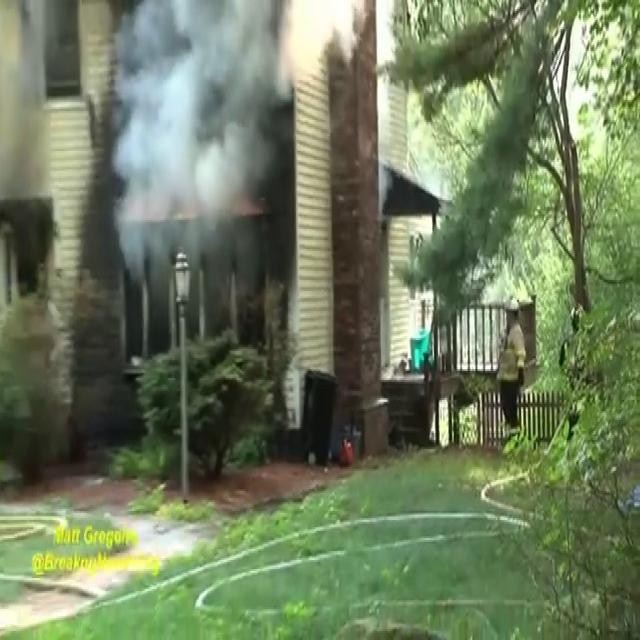Smoke: (0, 0, 347, 296)
